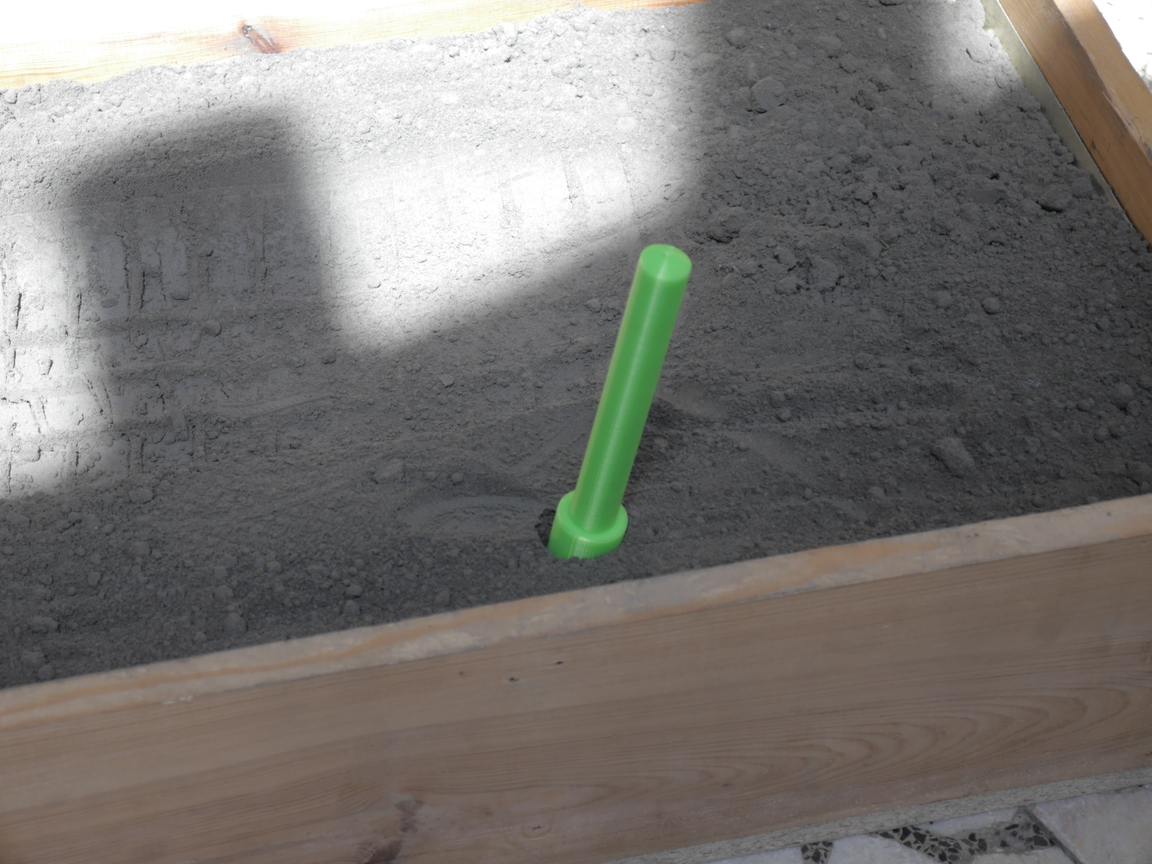cargo_g: (547, 243, 693, 560)
